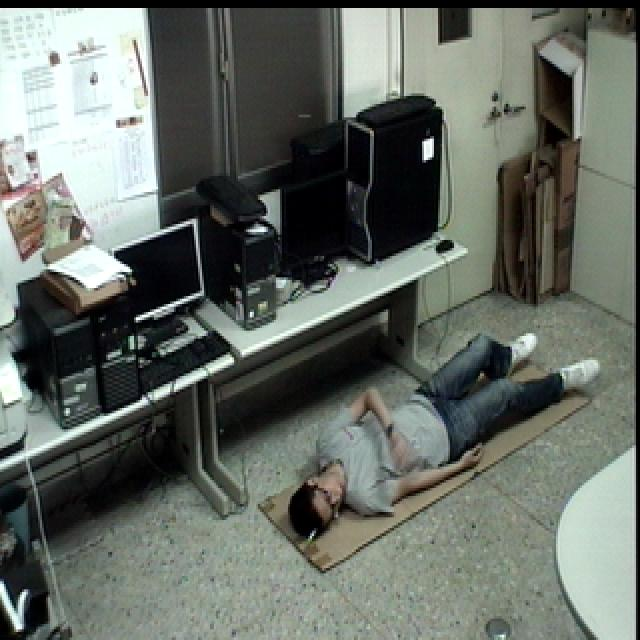lie: (279, 324, 604, 544)
